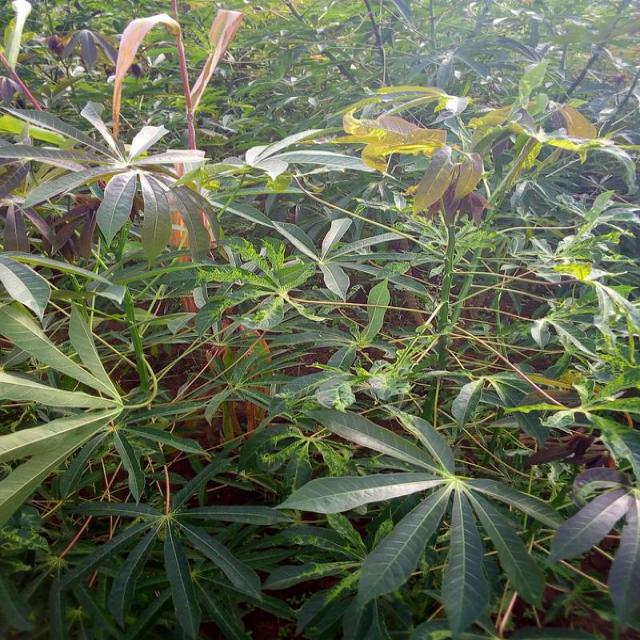cassava leaf: (2, 2, 640, 638), (276, 402, 566, 637)
